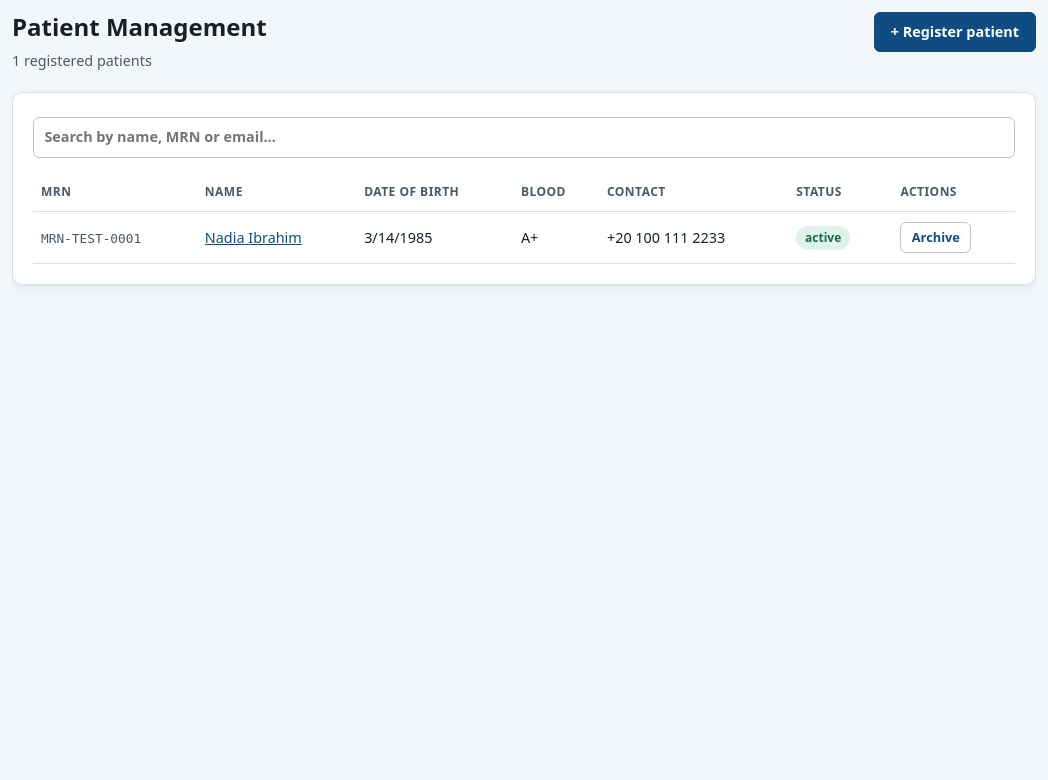
Test: <PatientManagement /> › rolls the optimistic row back when the server rejects the registration
Check: the link "Nadia Ibrahim" is shown, box [205, 228, 302, 246]
Click the button "+ Register patient" at (955, 32), box [874, 12, 1036, 52]
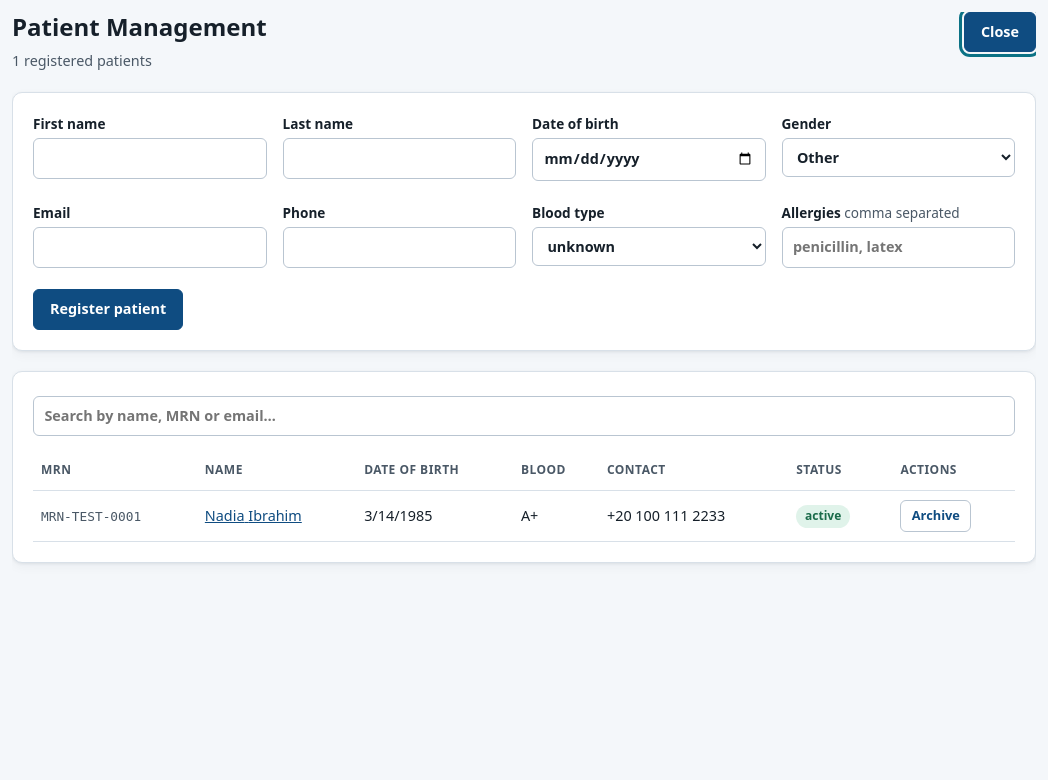
Type "Bad" into the field labelled "First name" at (150, 159), box [33, 138, 266, 179]
Type "Record" into the field labelled "Last name" at (399, 159), box [282, 138, 516, 179]
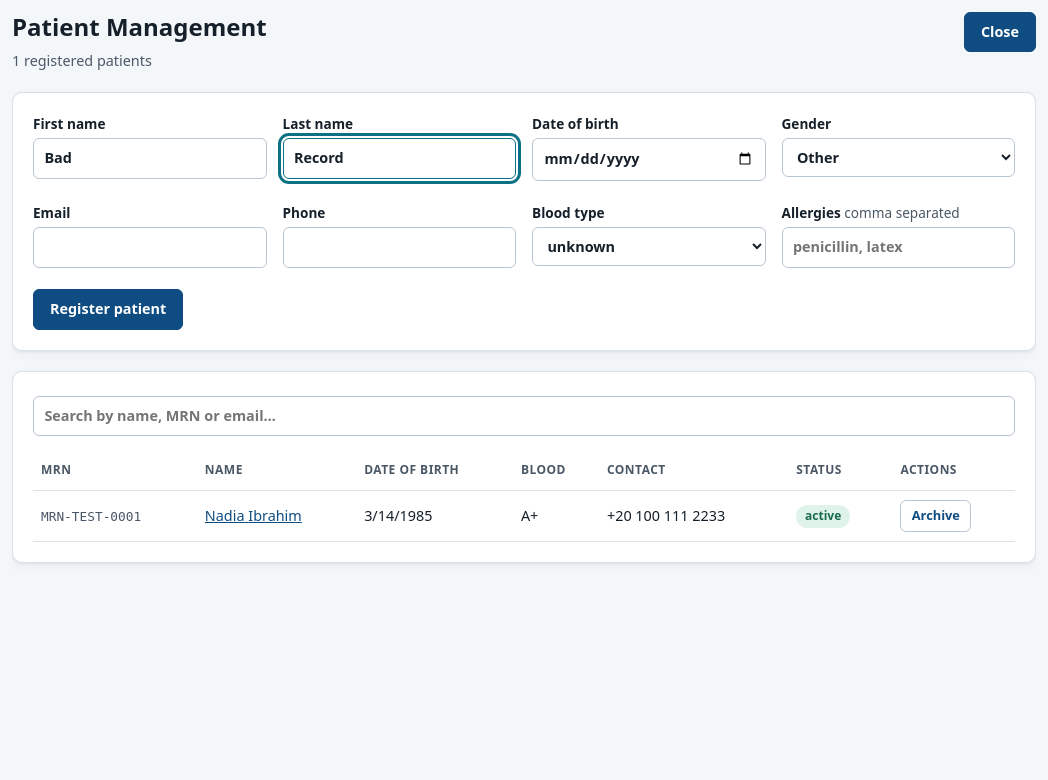
Type "1991-09-17" into the date field labelled "Date of birth" at (649, 160), box [532, 138, 766, 181]
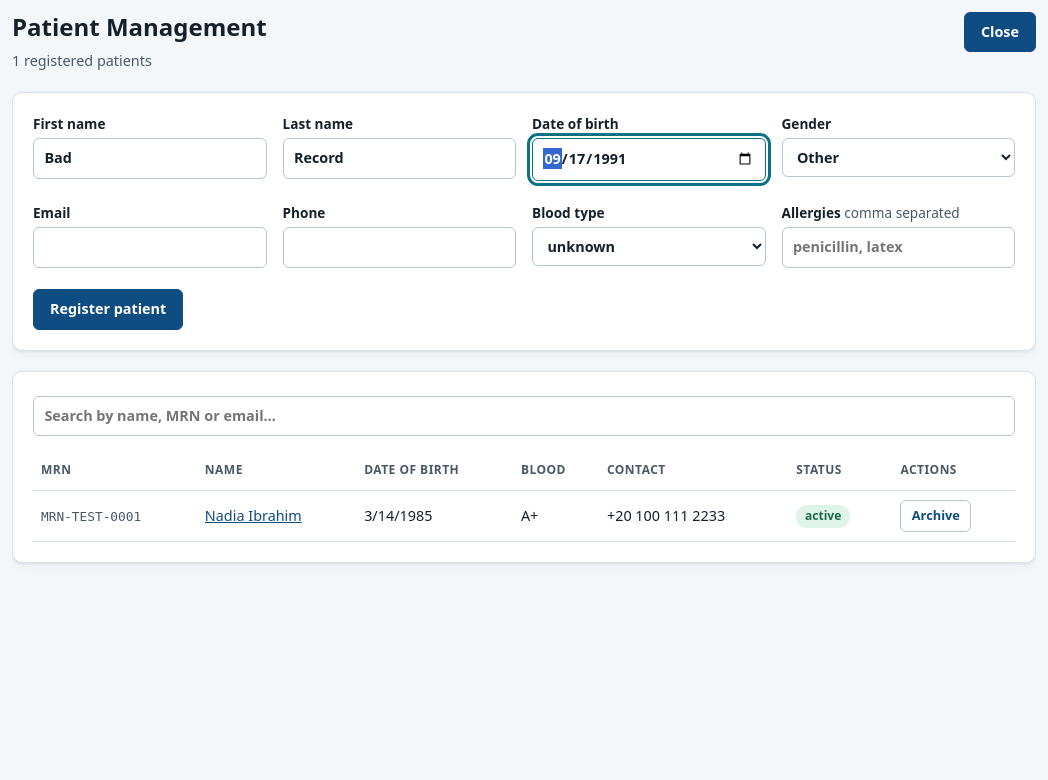
Type "bad@example.com" into the field labelled "Email" at (150, 248), box [33, 227, 266, 268]
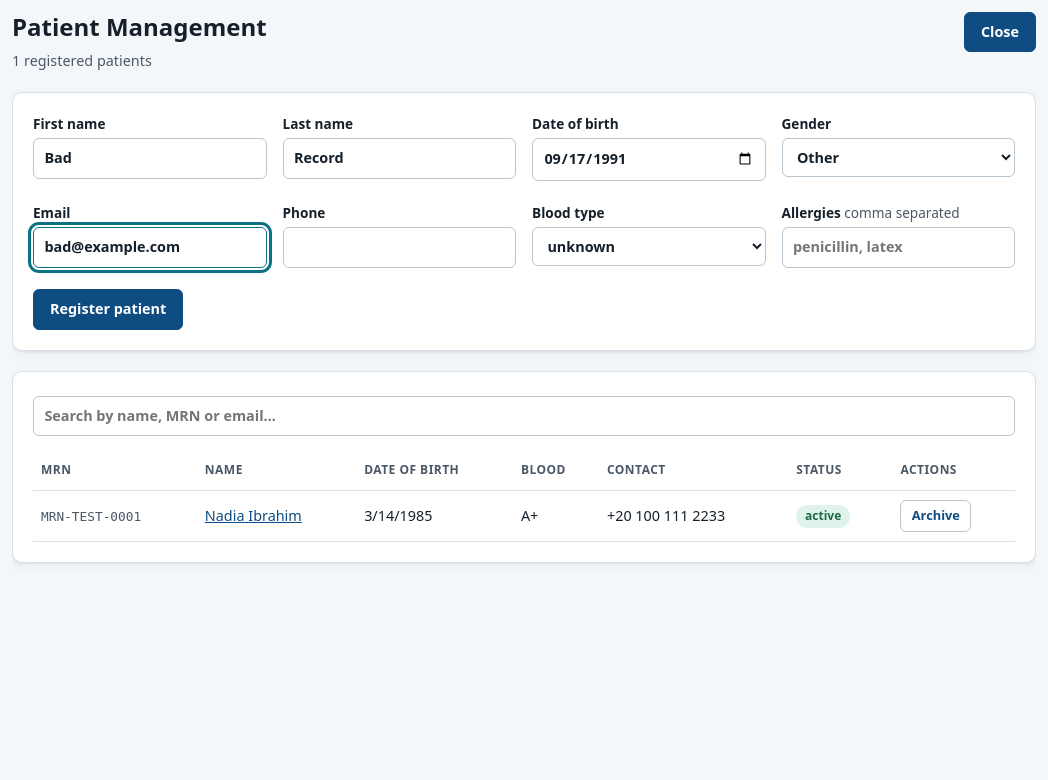
Type "000" into the field labelled "Phone" at (399, 248), box [282, 227, 516, 268]
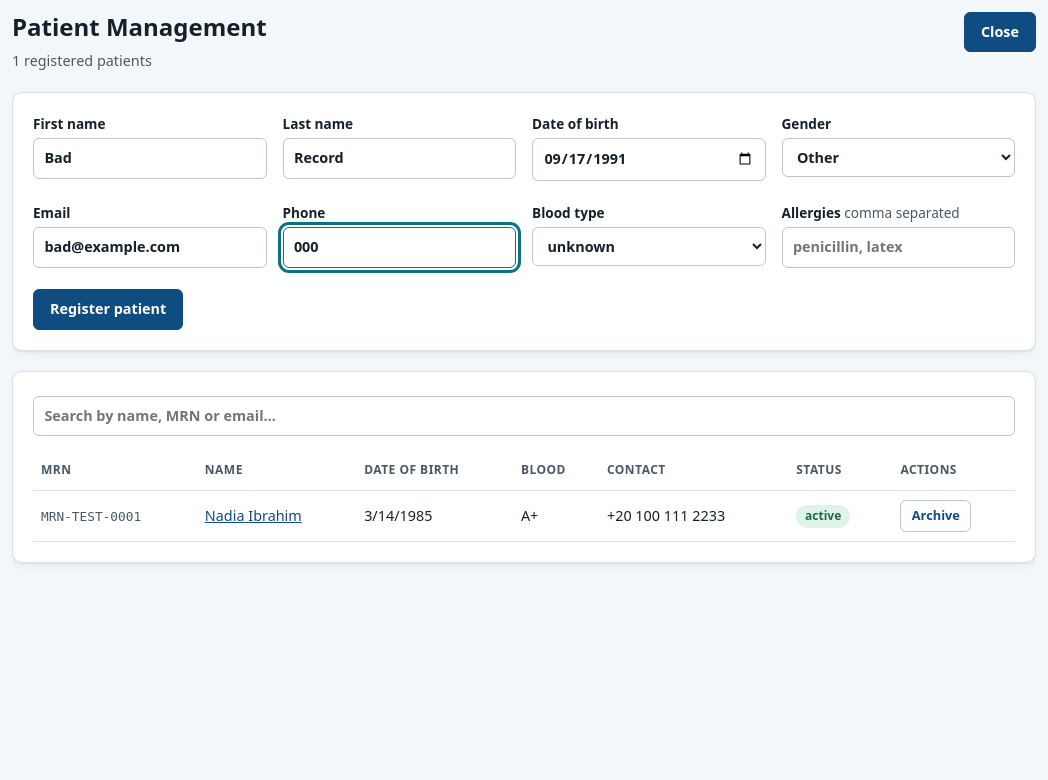
Click the button "Register patient" at (108, 309), box [33, 289, 183, 330]
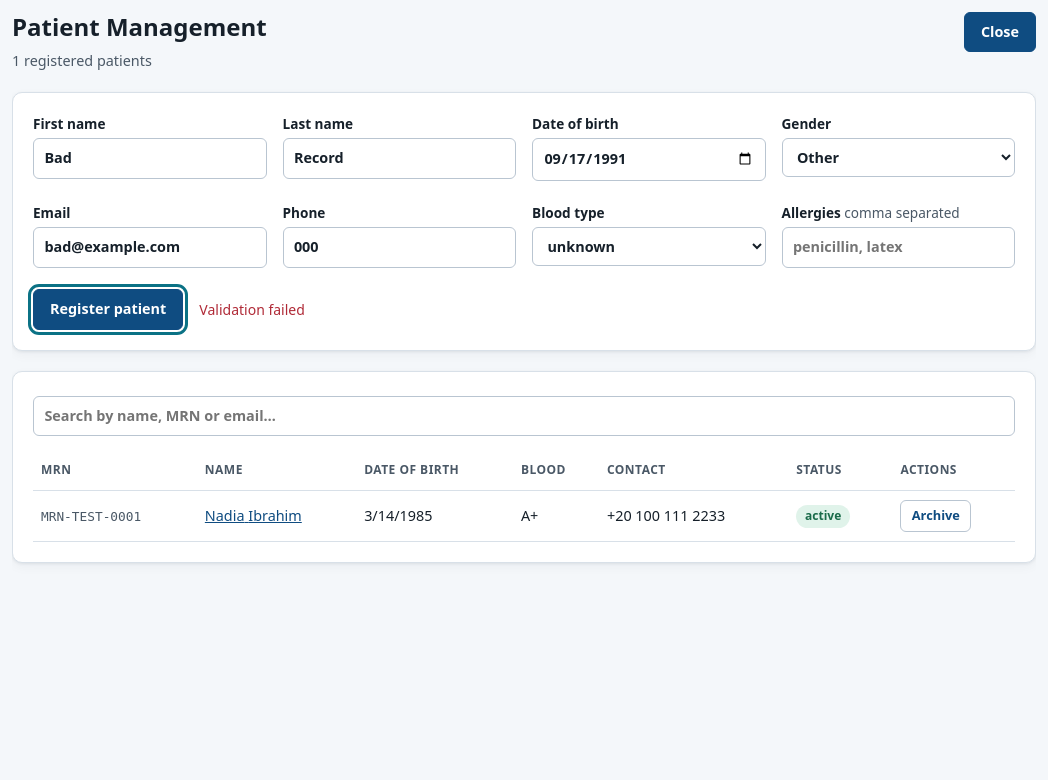
Check: the message reads "Validation failed", box [199, 300, 305, 319]
